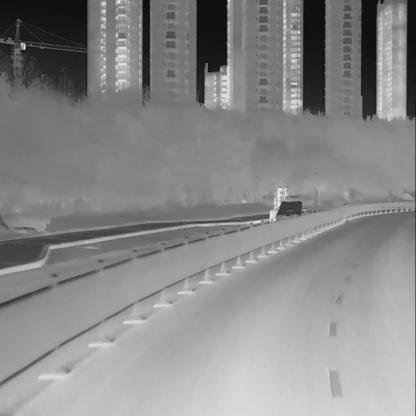car: (275, 198, 307, 228)
